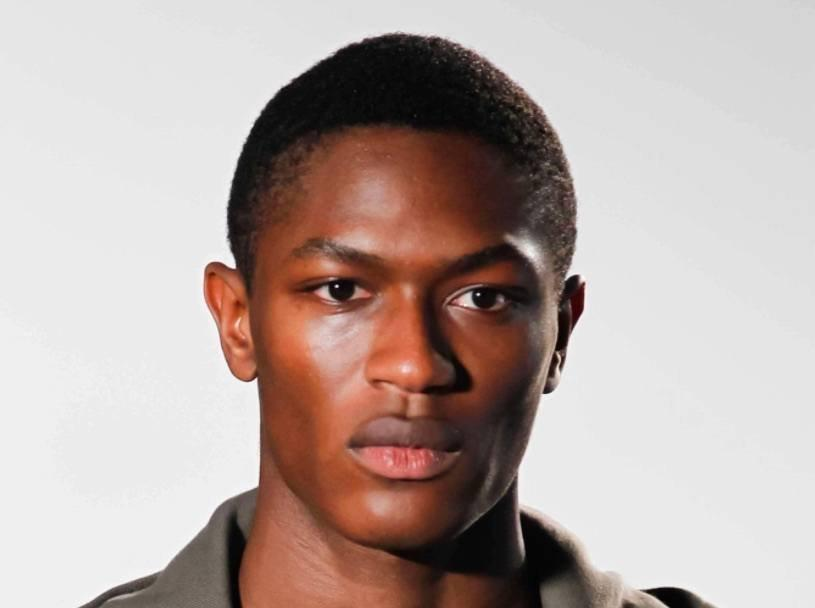Sober: (265, 138, 541, 517)
